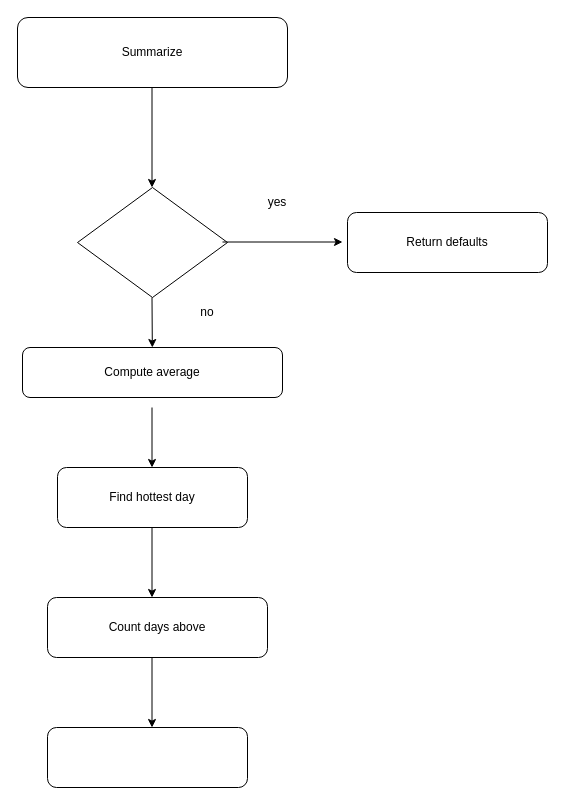
Some shapes in this 565 by 805 pixel diagram are drawn without their labels. Each missing label, with the box of its shape:
log empty?: (76, 186, 228, 298)
Return Summary: (46, 726, 248, 788)
